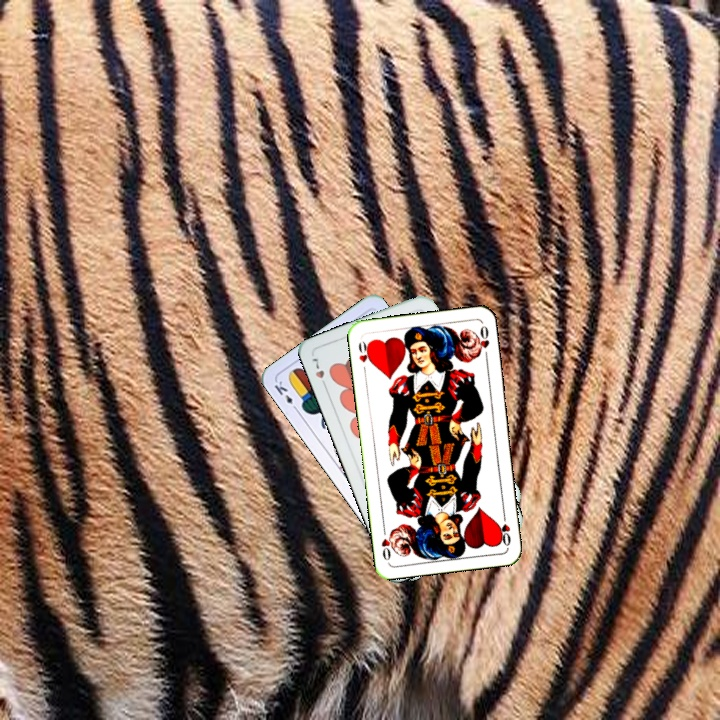EK: (270, 377, 301, 414)
H7: (308, 352, 329, 391)
HO: (354, 337, 374, 376), (495, 508, 513, 549)
